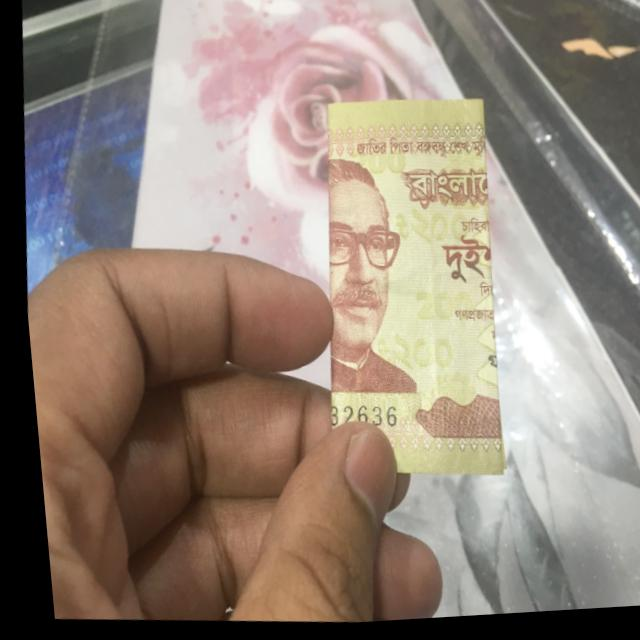Taka: (296, 97, 513, 479)
